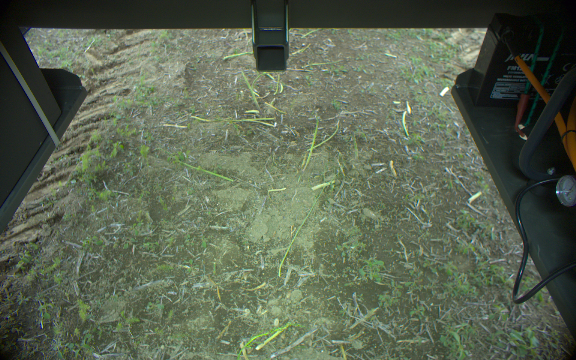aspa: (238, 69, 263, 118), (301, 114, 320, 171), (257, 322, 291, 352), (221, 50, 253, 60), (239, 342, 246, 360)
